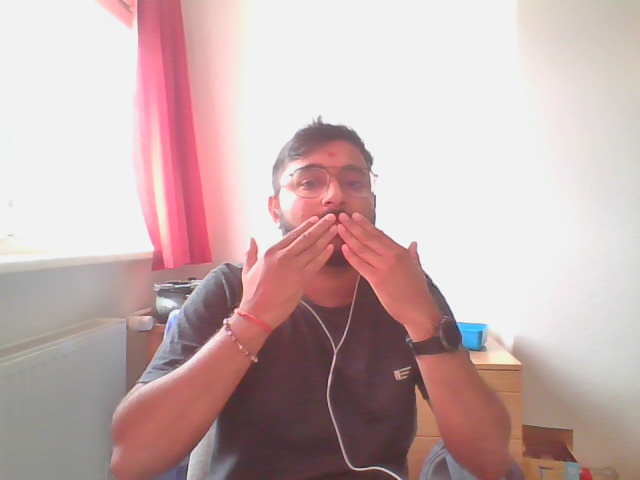ThankYou: (240, 211, 430, 318)
